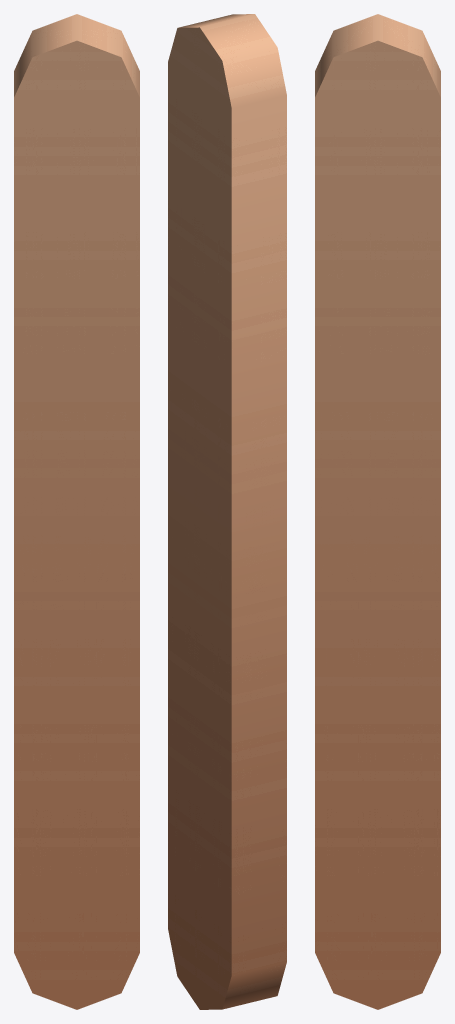
File: food-popsicle-stick.glb
3 renders of one model, left to right at view 1: azimuth 90°, elevation 25°; view 2: azimuth 210°, elevation 25°; view 3: azimuth 270°, elevation 25°, orthographic.
Parts seen in each view (by area): view 1: popsicle-stick; view 2: popsicle-stick; view 3: popsicle-stick.
Boxes of the visible parts, x1,y1,x2,y2 form: popsicle-stick: (14,14,139,1009); popsicle-stick: (168,14,286,1009); popsicle-stick: (315,14,440,1009).
Size of the model in its own units: 0.02 by 0.34 by 0.04.
Materials: 1 (1 with a texture image).
